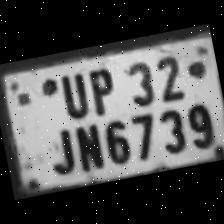2: (148, 48, 188, 103)
3: (116, 54, 157, 108), (152, 101, 189, 156)
6: (96, 114, 134, 168)
7: (124, 108, 162, 164)
9: (180, 96, 218, 151)
J: (40, 122, 78, 178)
N: (68, 118, 106, 174)
P: (80, 62, 121, 118)
U: (52, 65, 92, 121)
